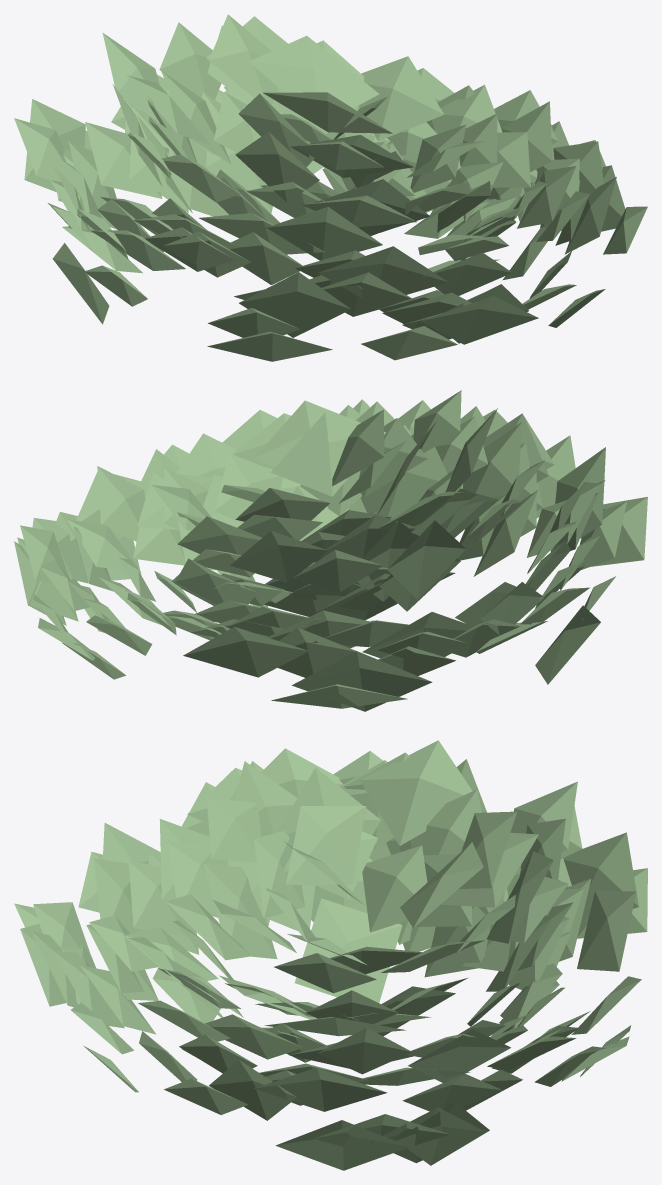
File: island-shrub-2.glb
3 views of the same model, one above another, from view 1: azimuth 30°, elevation 25°; view 2: azimuth 150°, elevation 25°; view 3: azimuth 270°, elevation 25° (orthographic).
Visible parts, largest first — view 1: IslandShrub.002; view 2: IslandShrub.002; view 3: IslandShrub.002.
Boxes of the visible parts, bbox=[...] form: IslandShrub.002: bbox=[14, 14, 647, 361]; IslandShrub.002: bbox=[14, 390, 647, 711]; IslandShrub.002: bbox=[14, 740, 647, 1170].
Bounding box in the file's own units: 1.82 × 0.7755 × 1.83.
